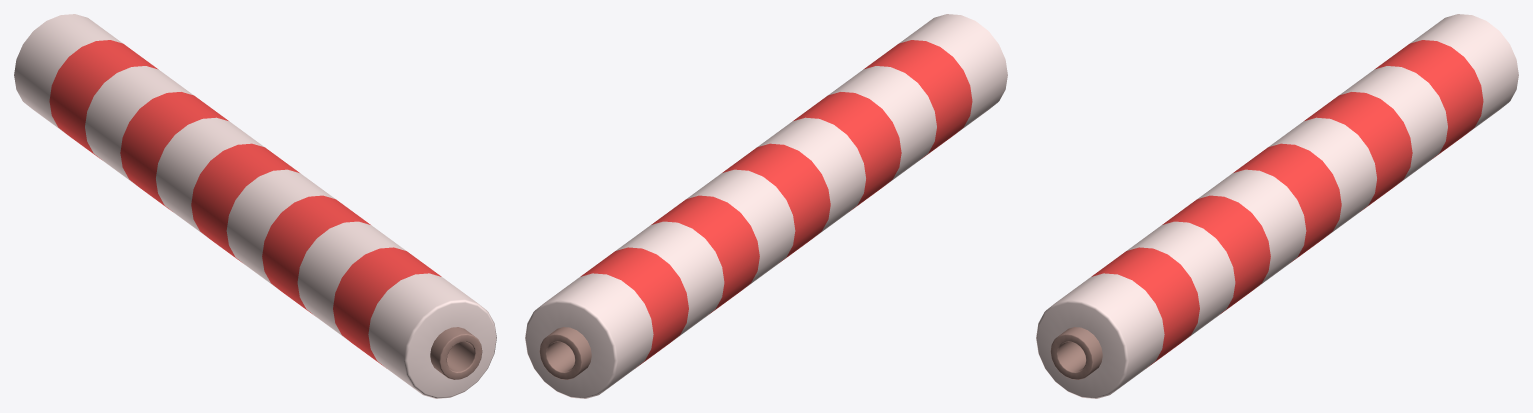
File: Public_19_Fabric_Roll_5.glb
3 renders of one model, left to right at view 1: azimuth 30°, elevation 25°; view 2: azimuth 150°, elevation 25°; view 3: azimuth 330°, elevation 25°, orthographic.
Parts seen in each view (by area): view 1: Public_19_Fabric_Roll_5; view 2: Public_19_Fabric_Roll_5; view 3: Public_19_Fabric_Roll_5.
Boxes of the visible parts, left/top/right/bottom form: Public_19_Fabric_Roll_5: left=14, top=14, right=496, bottom=398; Public_19_Fabric_Roll_5: left=525, top=14, right=1007, bottom=398; Public_19_Fabric_Roll_5: left=1036, top=14, right=1518, bottom=398.
Bounding box in the file's own units: 0.3971 × 0.3972 × 3.04.
Materials: 1 (1 with a texture image).
